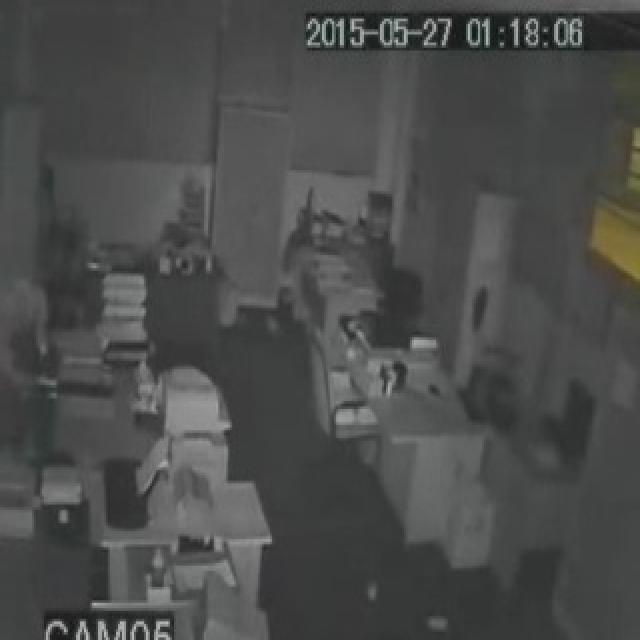thief: (2, 271, 62, 370)
